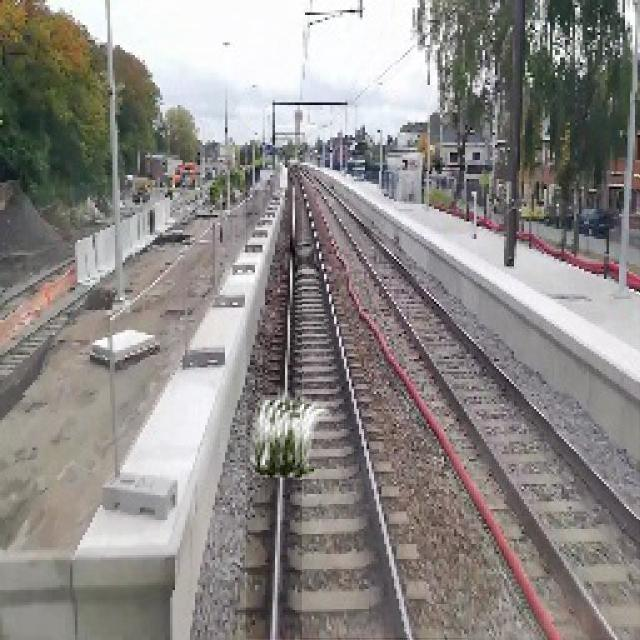rail: (304, 173, 640, 639), (248, 167, 467, 640)
